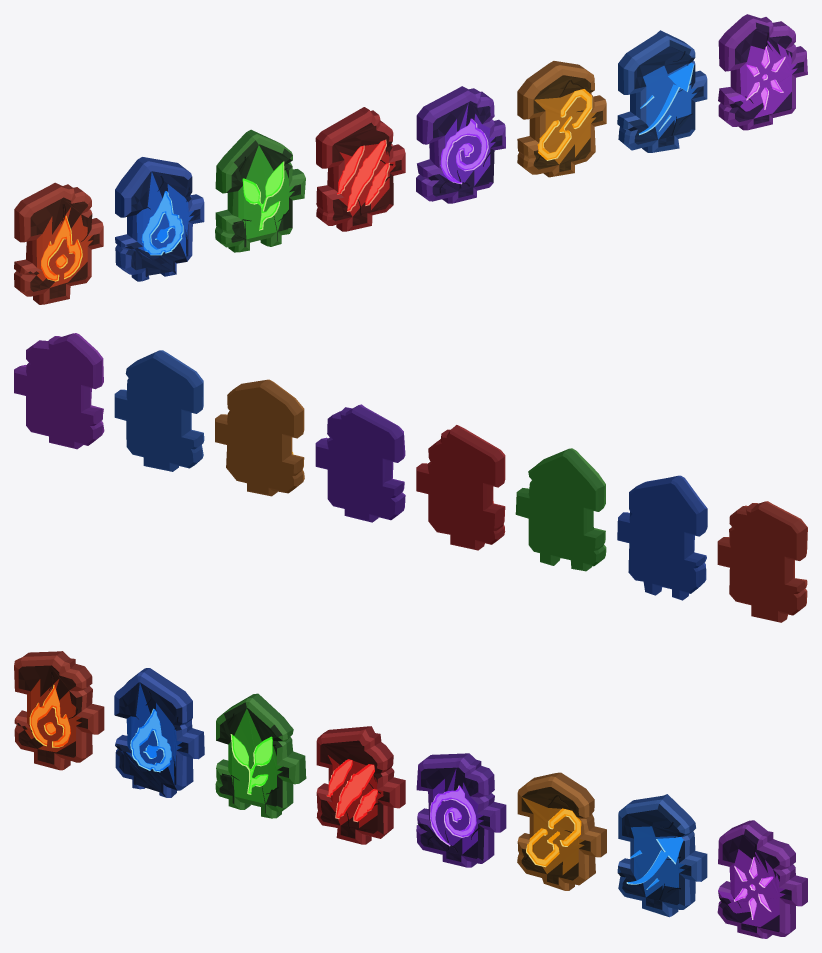
The model's file is runas_v4_acesas.glb.
3 renders of one model, top to bottom at view 1: azimuth 30°, elevation 25°; view 2: azimuth 150°, elevation 25°; view 3: azimuth 330°, elevation 25°, orthographic.
Parts seen in each view (by area): view 1: Runa_arremesso_acesa, Runa_agua_acesa, Runa_quebrar_acesa, Runa_fogo_acesa, Runa_prende_acesa, Runa_gravitacao_acesa, Runa_vida_acesa, Runa_feroz_acesa, Brasa_agua_0, Brasa_fogo_1, Brasa_feroz_2, Brasa_gravitacao_1; view 2: Runa_agua_acesa, Runa_fogo_acesa, Runa_arremesso_acesa, Runa_feroz_acesa, Runa_vida_acesa, Runa_gravitacao_acesa, Runa_prende_acesa, Runa_quebrar_acesa; view 3: Runa_arremesso_acesa, Runa_agua_acesa, Runa_quebrar_acesa, Runa_fogo_acesa, Runa_prende_acesa, Runa_gravitacao_acesa, Runa_vida_acesa, Runa_feroz_acesa, Brasa_agua_0, Brasa_fogo_1, Brasa_gravitacao_1, Brasa_feroz_2.
Part boxes in pixels (<box>): Runa_arremesso_acesa: <box>617,30,707,152</box>; Runa_agua_acesa: <box>115,157,204,281</box>; Runa_quebrar_acesa: <box>718,14,807,130</box>; Runa_fogo_acesa: <box>14,182,103,304</box>; Runa_prende_acesa: <box>517,61,606,177</box>; Runa_gravitacao_acesa: <box>416,86,505,203</box>; Runa_vida_acesa: <box>215,129,305,252</box>; Runa_feroz_acesa: <box>315,107,405,231</box>; Brasa_agua_0: <box>142,193,181,253</box>; Brasa_fogo_1: <box>41,219,79,279</box>; Brasa_feroz_2: <box>347,140,384,209</box>; Brasa_gravitacao_1: <box>441,121,485,179</box>; Runa_agua_acesa: <box>617,475,707,600</box>; Runa_fogo_acesa: <box>717,501,807,622</box>; Runa_arremesso_acesa: <box>114,350,204,471</box>; Runa_feroz_acesa: <box>416,425,505,550</box>; Runa_vida_acesa: <box>515,448,606,571</box>; Runa_gravitacao_acesa: <box>315,404,405,522</box>; Runa_prende_acesa: <box>215,379,304,496</box>; Runa_quebrar_acesa: <box>14,333,104,449</box>; Runa_arremesso_acesa: <box>617,794,707,917</box>; Runa_agua_acesa: <box>114,668,204,797</box>; Runa_quebrar_acesa: <box>717,820,807,938</box>; Runa_fogo_acesa: <box>14,651,104,770</box>; Runa_prende_acesa: <box>517,772,606,890</box>; Runa_gravitacao_acesa: <box>416,753,506,867</box>; Runa_vida_acesa: <box>215,693,306,818</box>; Runa_feroz_acesa: <box>316,726,405,844</box>; Brasa_agua_0: <box>132,711,171,770</box>; Brasa_fogo_1: <box>31,688,69,745</box>; Brasa_gravitacao_1: <box>431,787,475,838</box>; Brasa_feroz_2: <box>337,765,374,816</box>.
Size of the model in its own units: 3.13 by 0.4576 by 0.0754.
